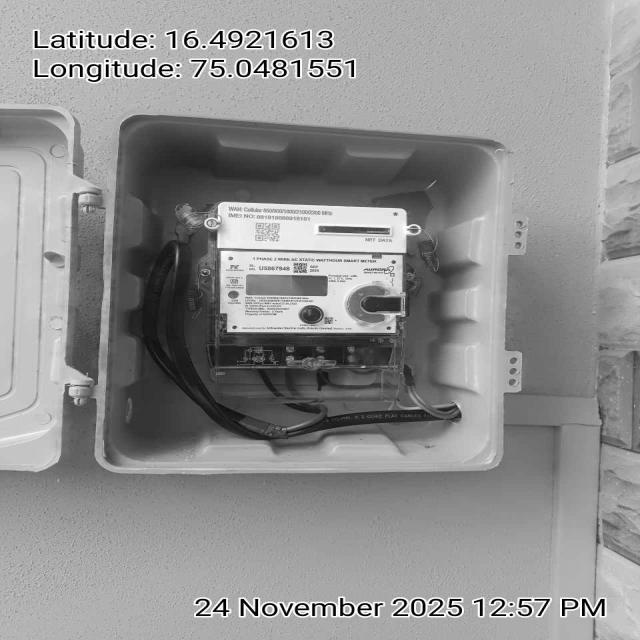meter: (211, 200, 410, 336)
